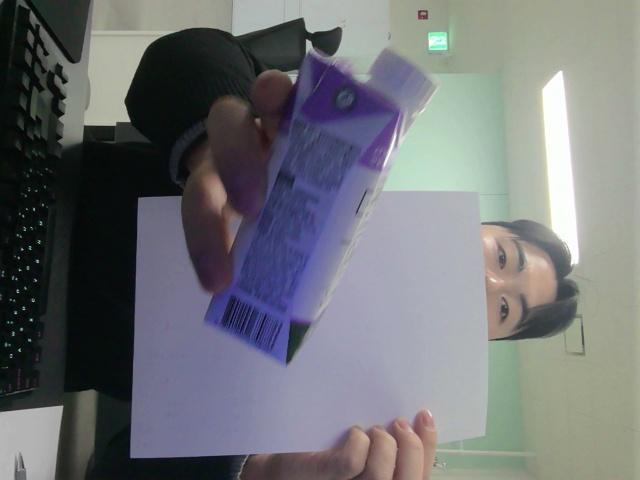milk: (205, 49, 436, 363)
